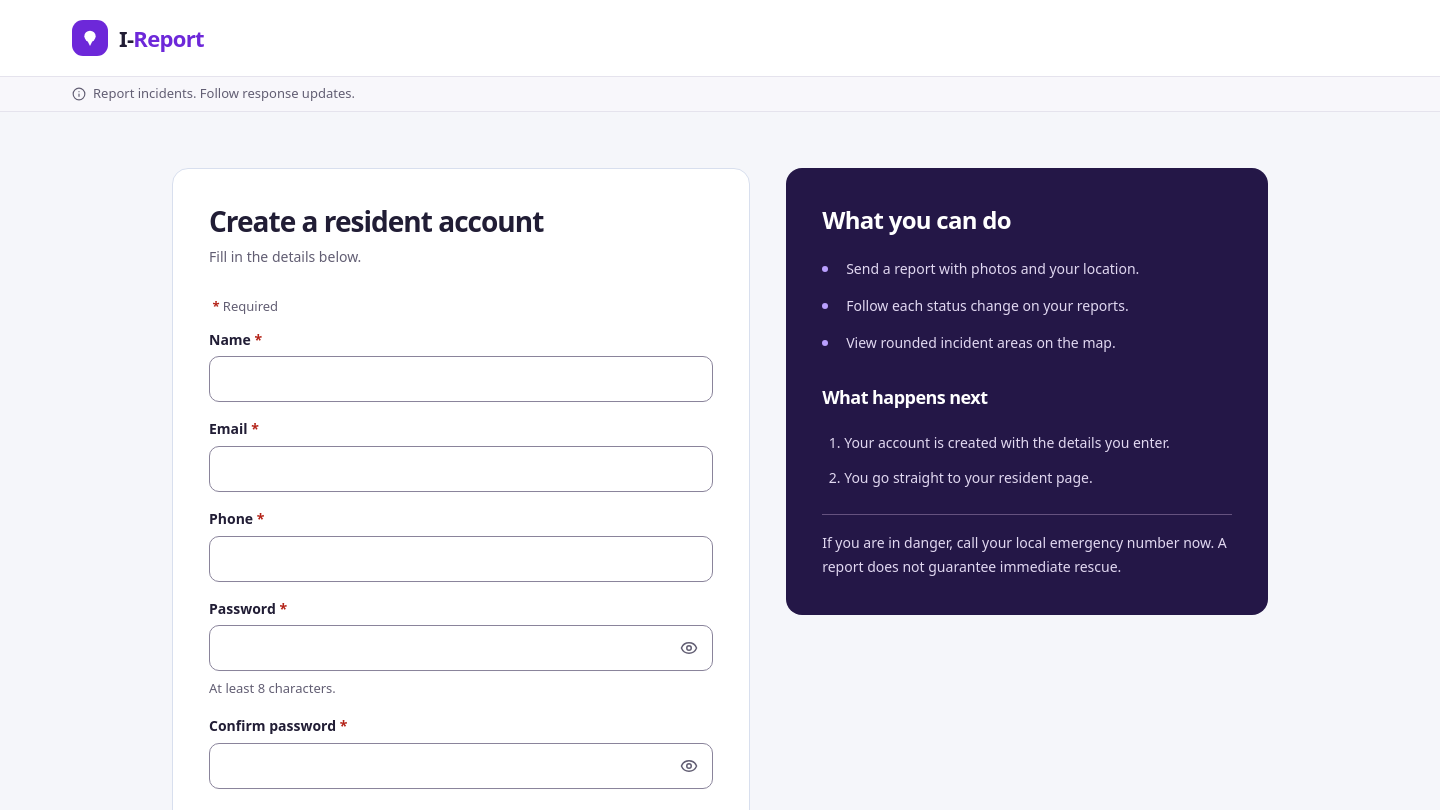
it: ResidentSignUp › refuses mismatched passwords without creating an account
Type "Ana Cruz" into the field labelled "Name".
click(461, 379); type("Ana Cruz")  # box [209,356,713,402]
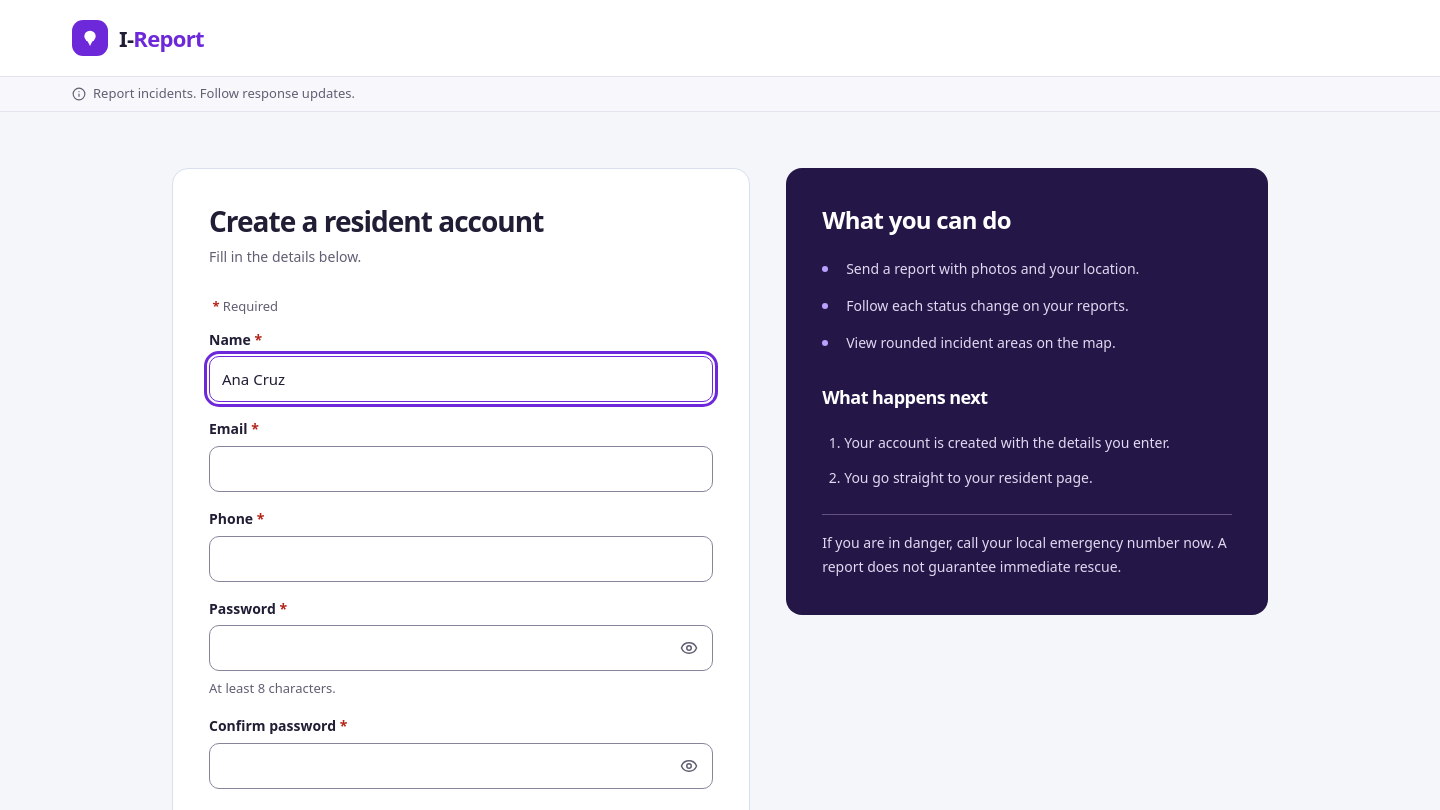
Type "ana@example.com" into the field labelled "Email".
click(461, 469); type("ana@example.com")  # box [209,446,713,492]
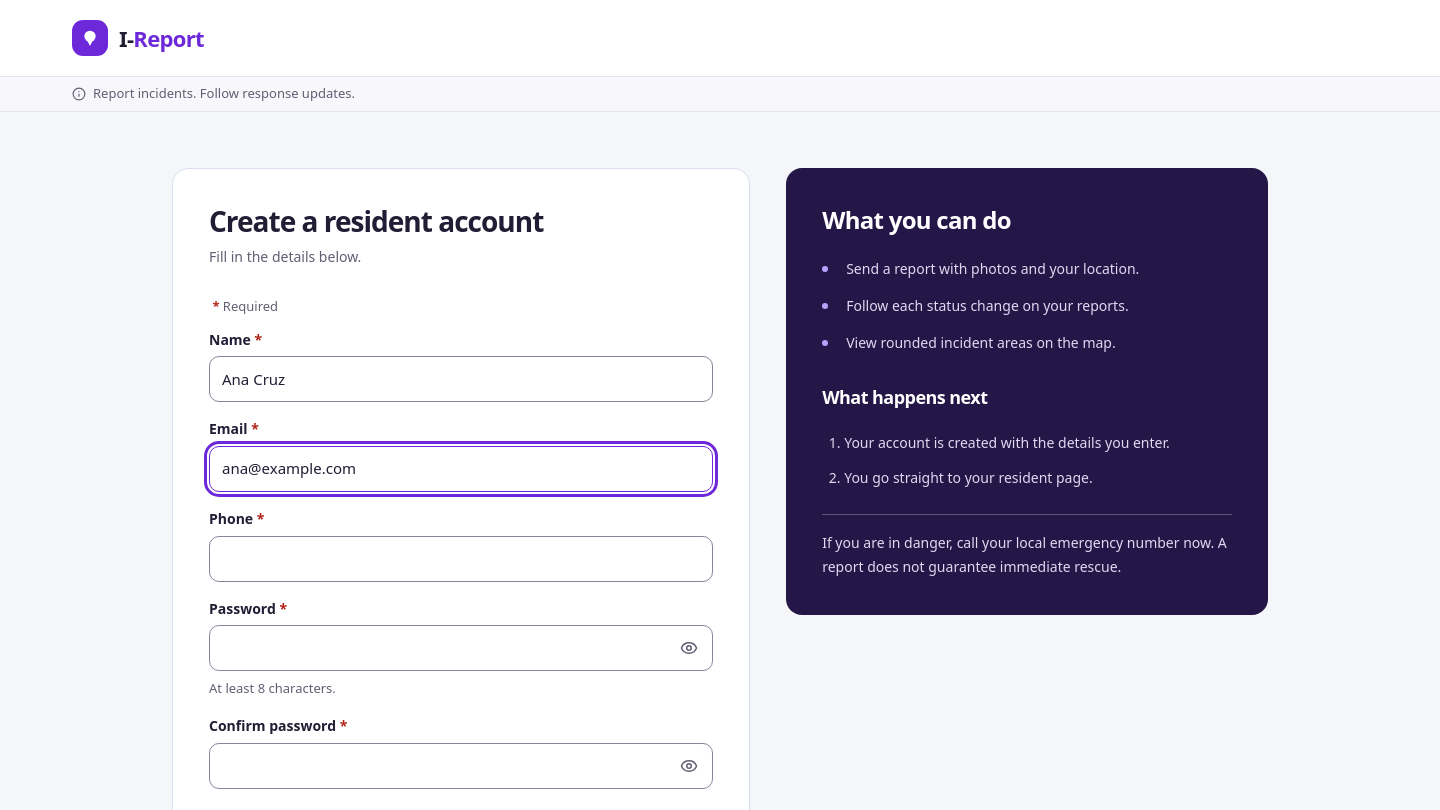
Type "0917 000 0001" into the field labelled "Phone".
click(461, 559); type("0917 000 0001")  # box [209,536,713,582]
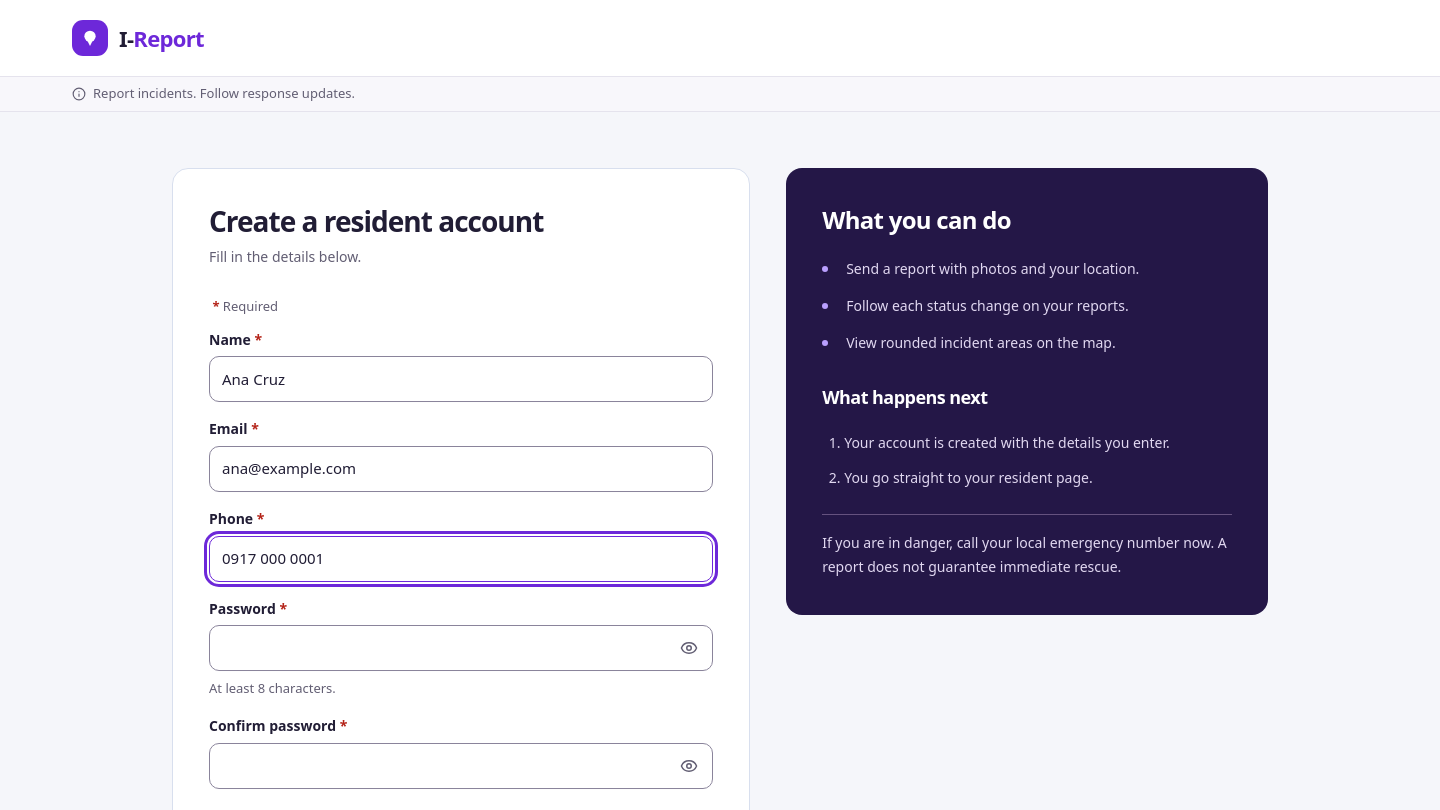
Type "correct-horse-1" into the password field labelled "Password".
click(461, 648); type("correct-horse-1")  # box [209,625,713,671]
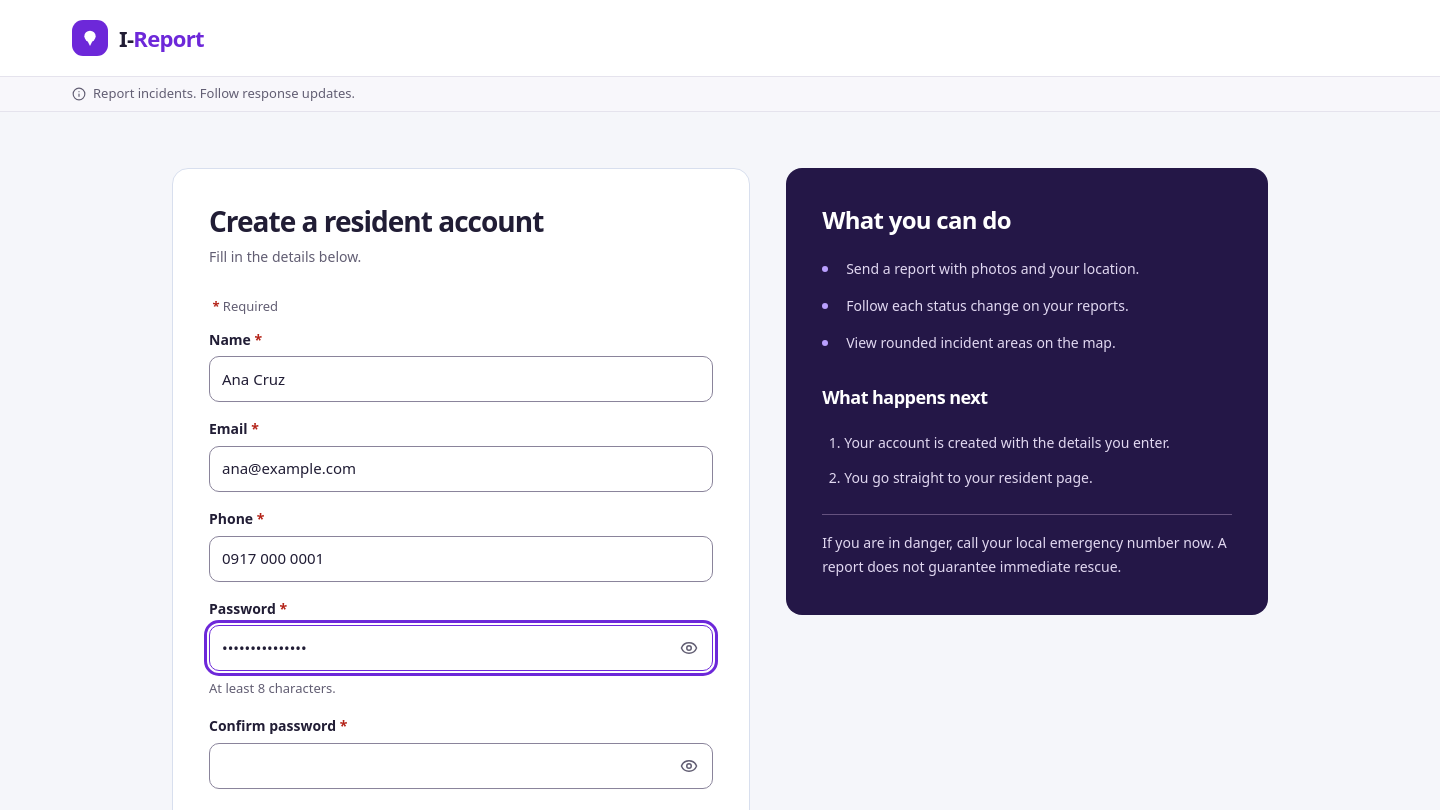
Type "different-horse-2" into the password field labelled "Confirm password".
click(461, 766); type("different-horse-2")  # box [209,743,713,789]
(page scrolled)
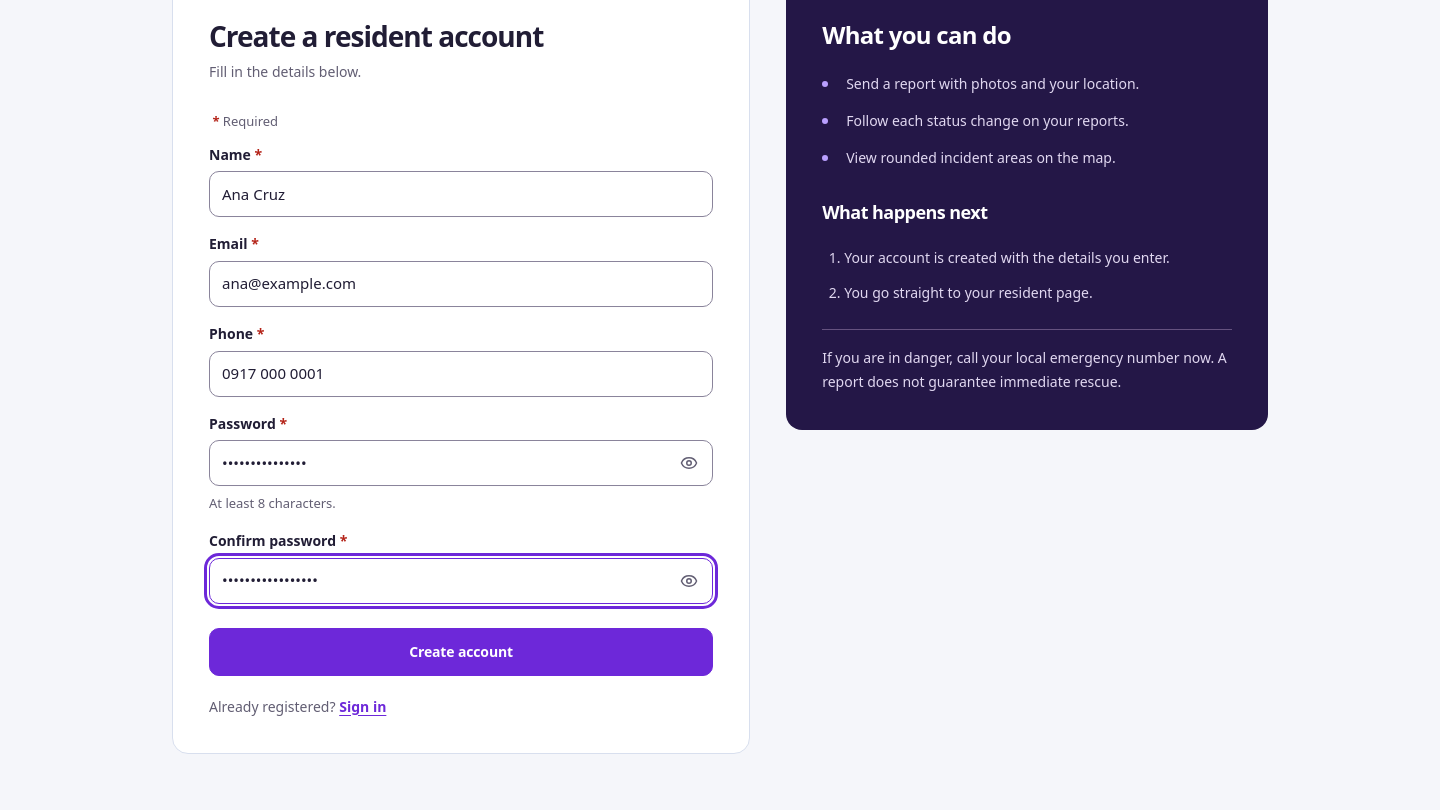
Click the button "Create account".
click(461, 652)  # box [209,628,713,676]
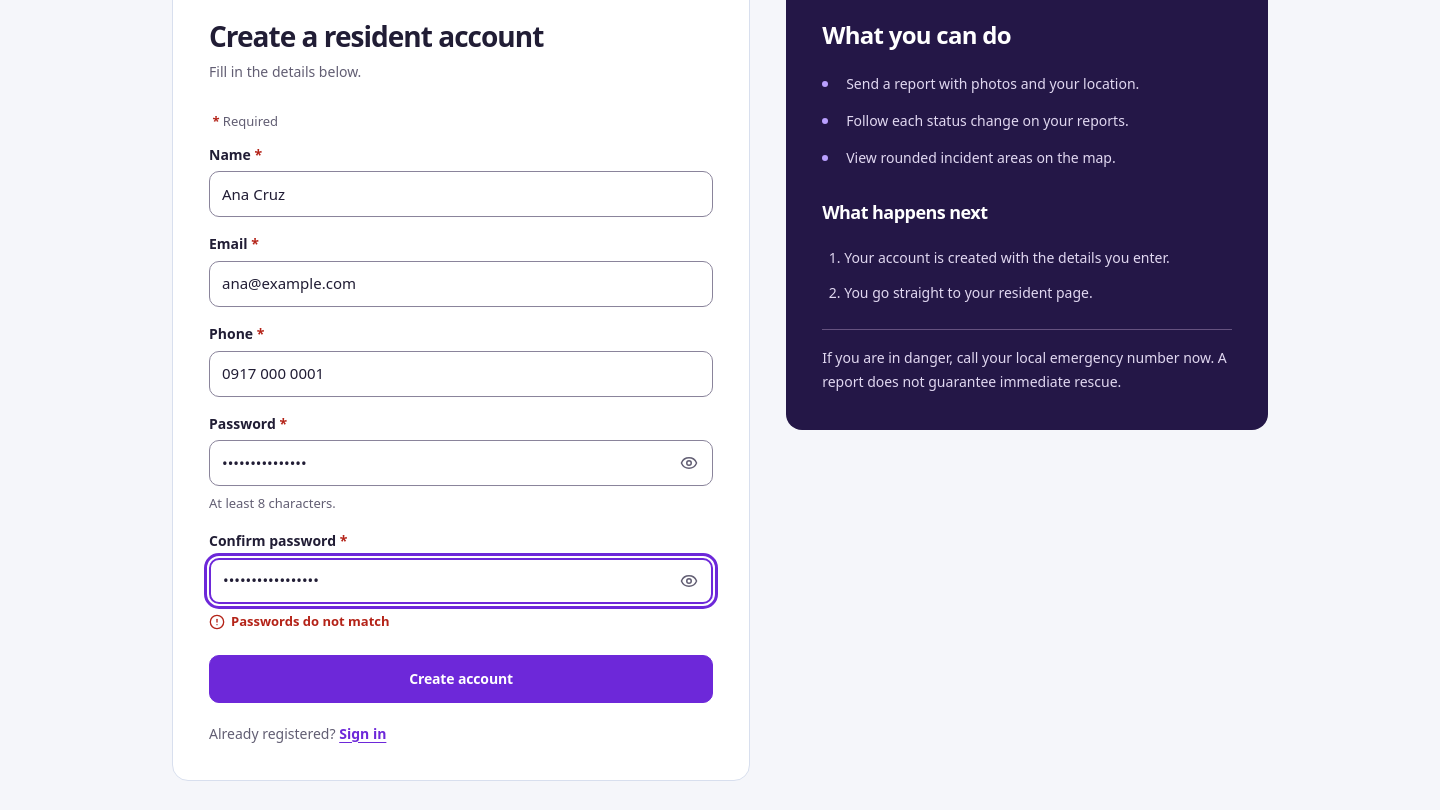
Now the text "Passwords do not match" is shown, box [209,612,390,630]
